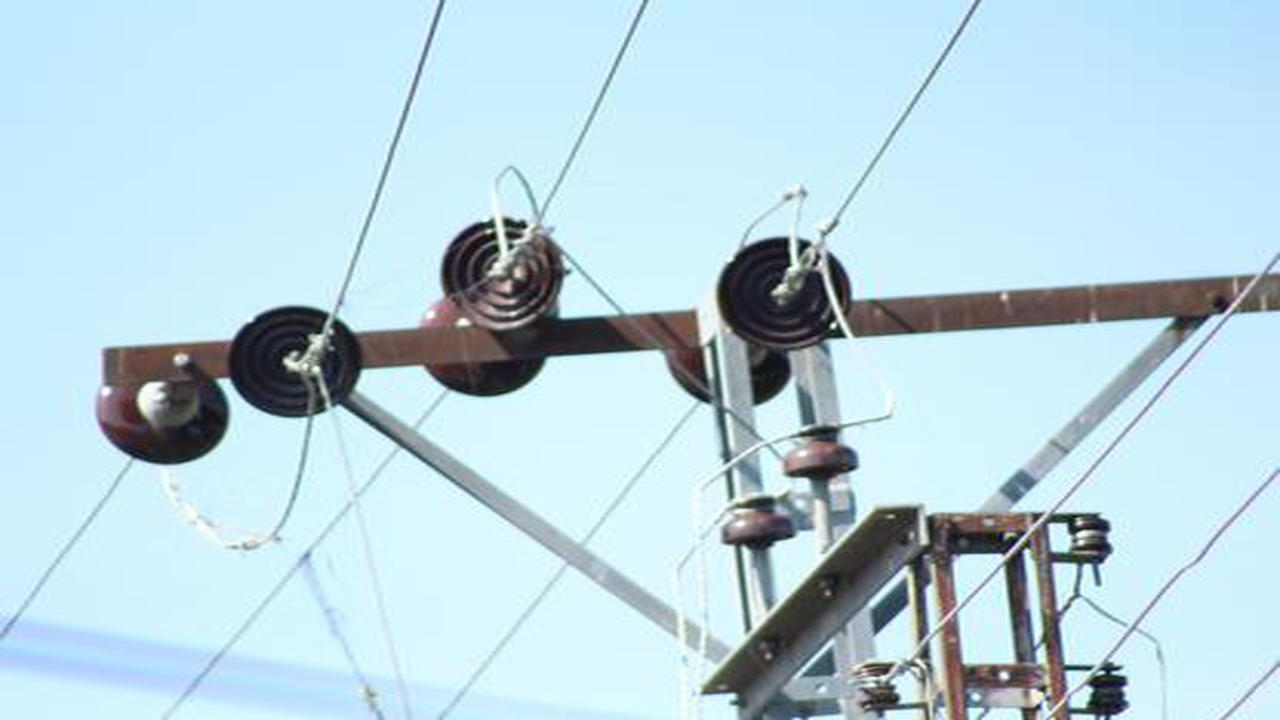insulator_disc: (226, 299, 368, 419), (439, 211, 569, 341), (718, 228, 857, 349), (90, 361, 232, 463)
insulator_pin: (779, 420, 859, 485), (715, 492, 801, 550)
